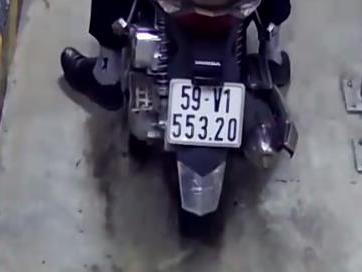num_plate: (165, 76, 245, 149)
